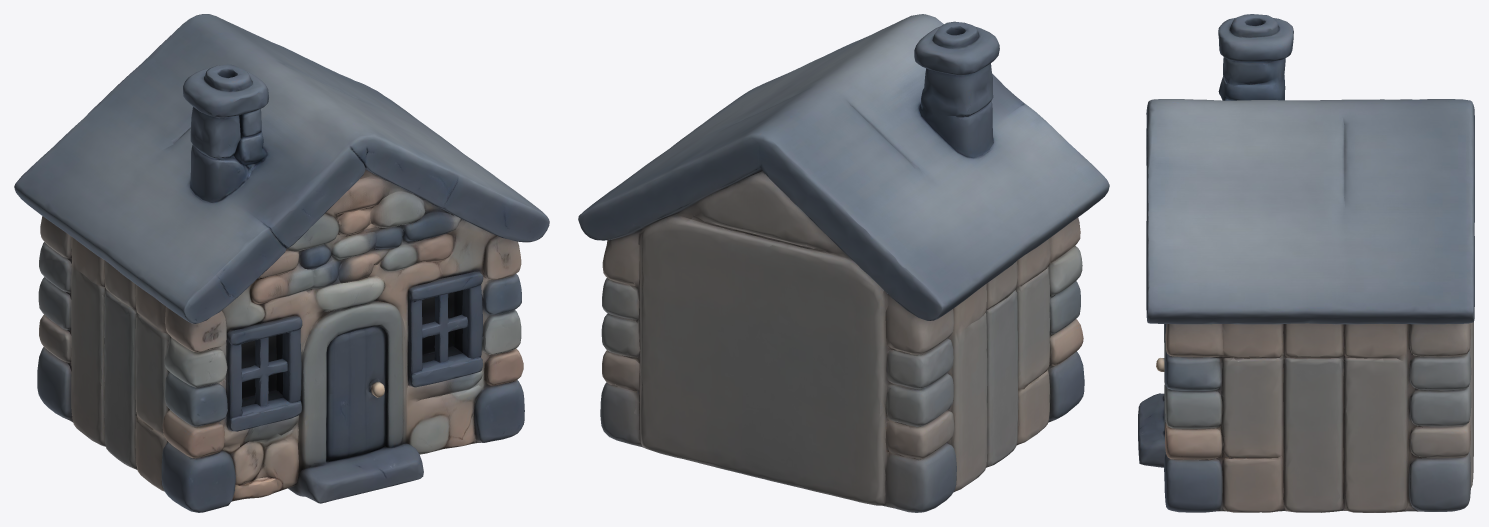
The model's file is cottage.glb.
3 renders of one model, left to right at view 1: azimuth 30°, elevation 25°; view 2: azimuth 150°, elevation 25°; view 3: azimuth 270°, elevation 25°, orthographic. The views are drawn at different scales.
Parts seen in each view (by area): view 1: Mesh; view 2: Mesh; view 3: Mesh.
Boxes of the visible parts, <box> form: Mesh: <box>14,14,549,512</box>; Mesh: <box>578,14,1109,512</box>; Mesh: <box>1138,14,1474,512</box>.
Size of the model in its own units: 1.81 by 1.89 by 1.48.
1 material, 1 textured.
